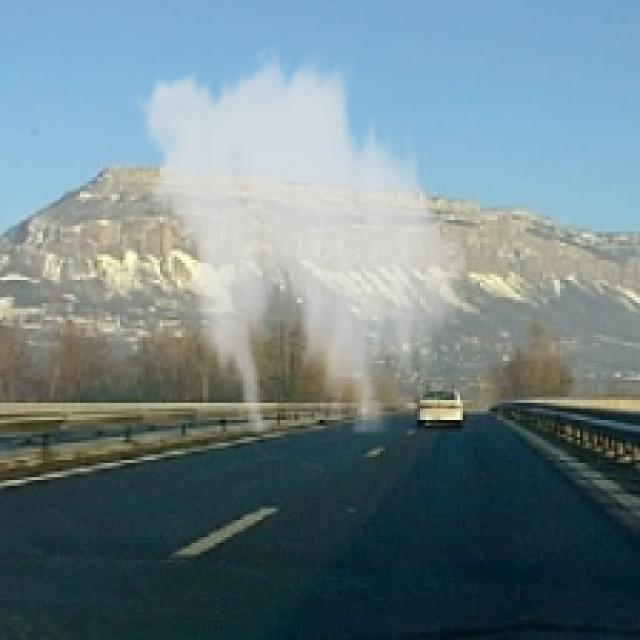Smoke: (126, 42, 477, 434)
